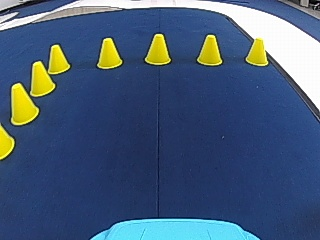cone: (9, 82, 39, 125), (29, 60, 55, 96), (197, 33, 224, 66), (145, 33, 172, 64), (97, 37, 123, 69), (47, 43, 70, 74), (245, 37, 269, 66), (1, 125, 14, 159)
